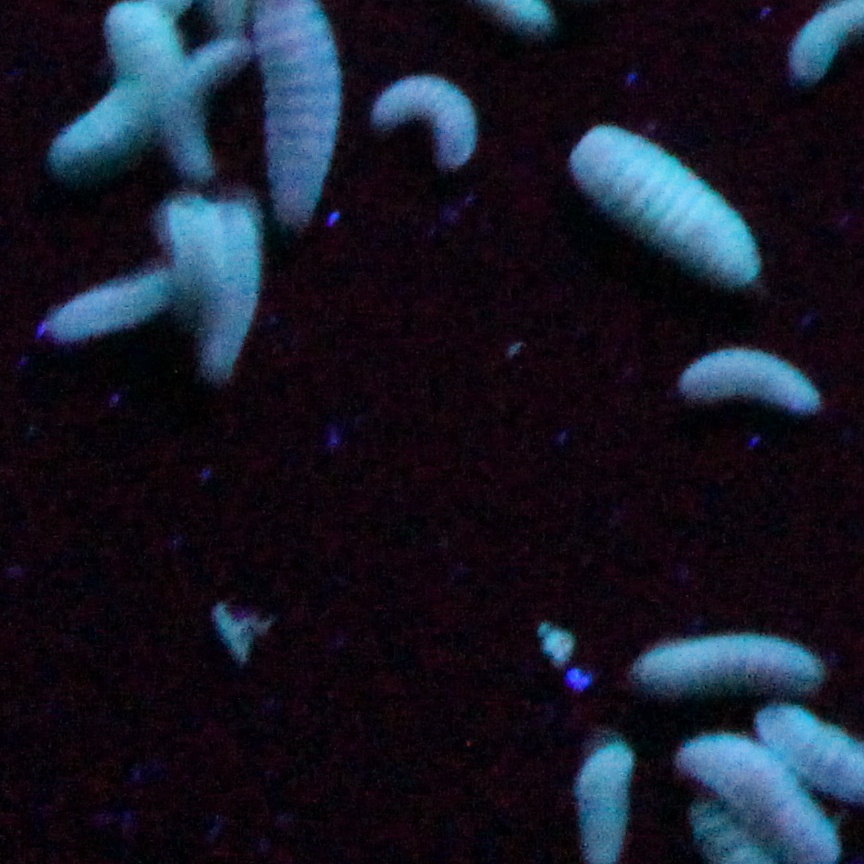larve: (573, 114, 759, 293), (120, 13, 200, 172), (642, 627, 819, 695), (51, 260, 189, 343), (679, 345, 821, 415), (373, 80, 474, 160), (211, 199, 244, 361)
